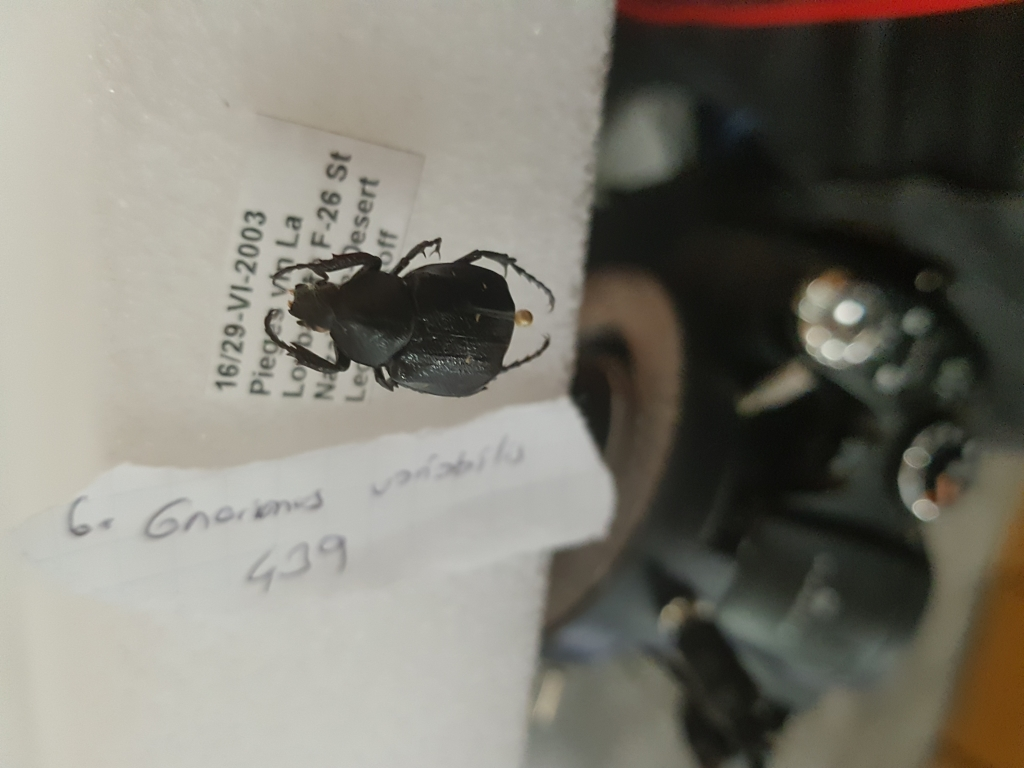Gnorimus_variabilis: (262, 237, 562, 404)
